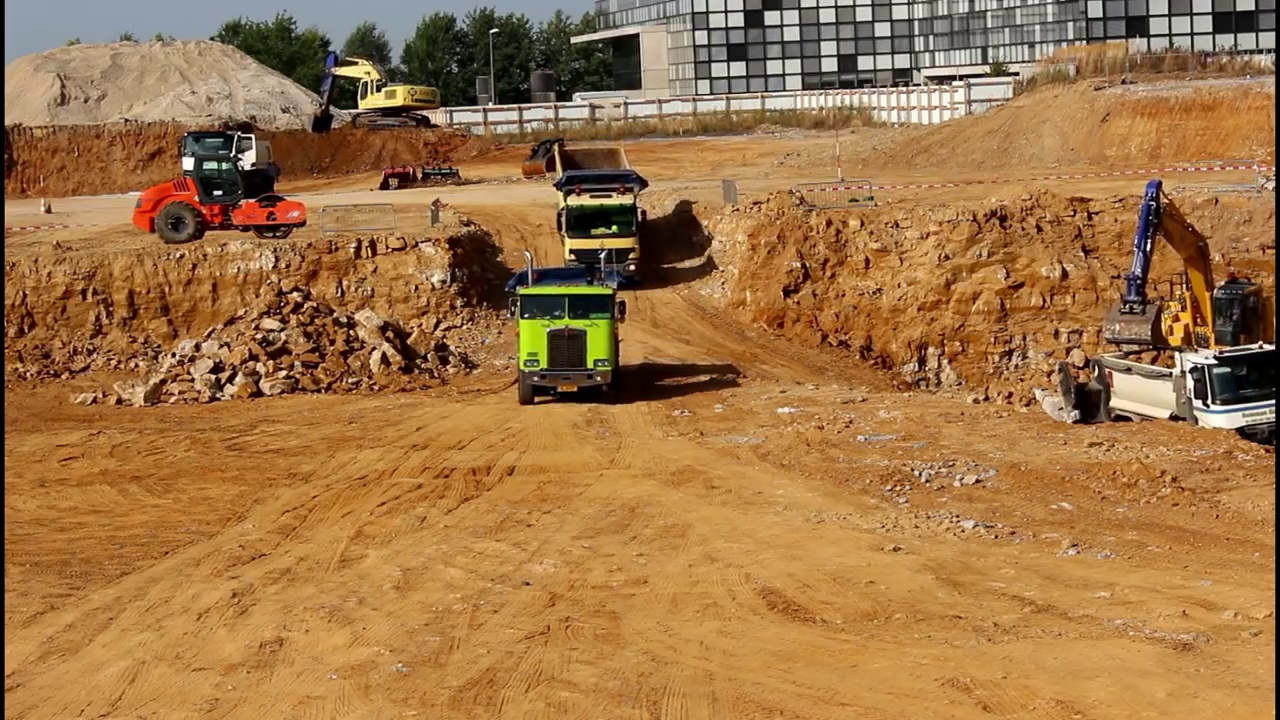compactor: (130, 152, 309, 243)
excavator: (1099, 176, 1280, 396), (312, 48, 441, 136)
truck: (1093, 337, 1280, 462), (505, 251, 629, 410), (548, 138, 648, 286), (178, 119, 285, 207)
